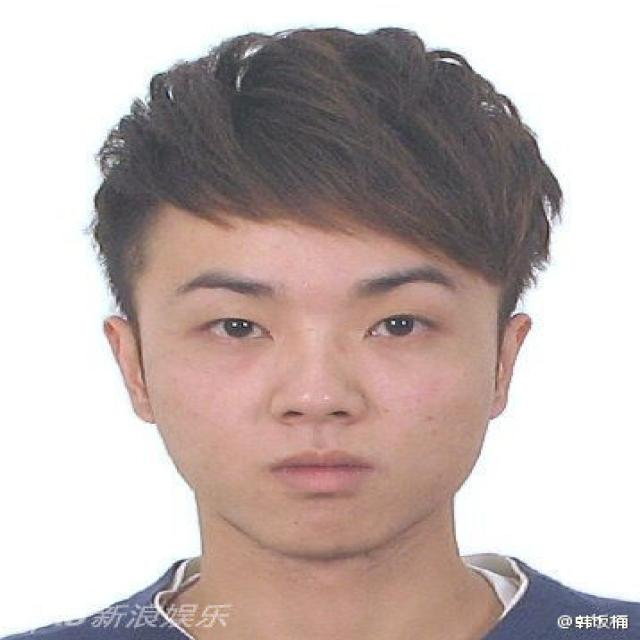Open: (361, 311, 435, 341), (198, 314, 272, 342)
